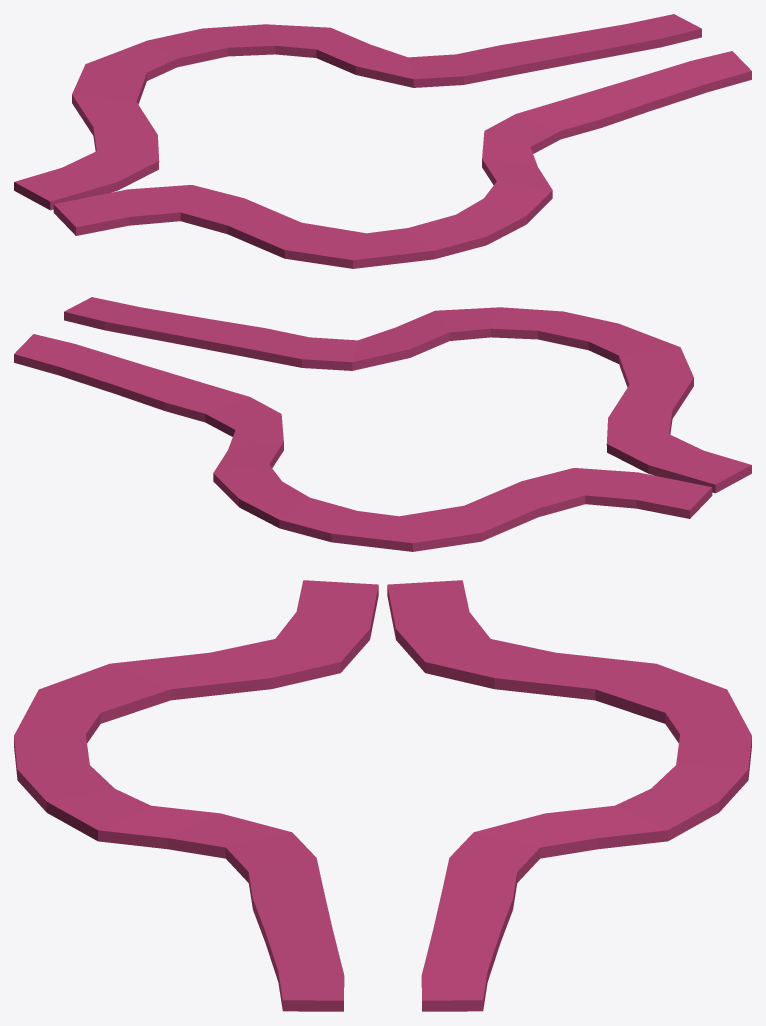
Rendered from yol7.fbx.
The picture shows the model from 3 angles, top to bottom: view 1: azimuth 30°, elevation 25°; view 2: azimuth 150°, elevation 25°; view 3: azimuth 270°, elevation 25°; orthographic projection. The views are drawn at different scales.
Visible parts, largest first — view 1: Plane.023; view 2: Plane.023; view 3: Plane.023.
Boxes of the visible parts, x1,y1,x2,y2 form: Plane.023: (14,14,751,268); Plane.023: (14,297,751,551); Plane.023: (14,580,751,1011).
Size of the model in its own units: 3520 by 53.5 by 2603.
